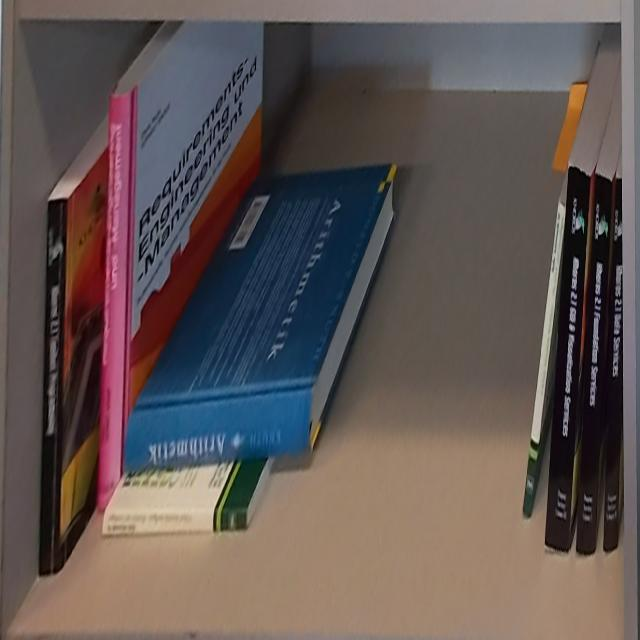Book Spine: (542, 164, 593, 553), (125, 387, 311, 474), (522, 199, 566, 516), (577, 169, 612, 557), (98, 93, 128, 509), (38, 198, 67, 577), (603, 176, 623, 554), (103, 512, 247, 535)
